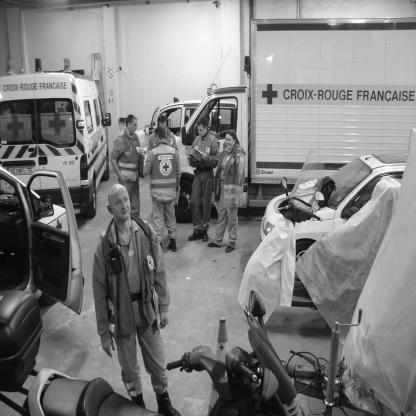ambulance: (173, 17, 416, 236), (1, 67, 119, 220)
